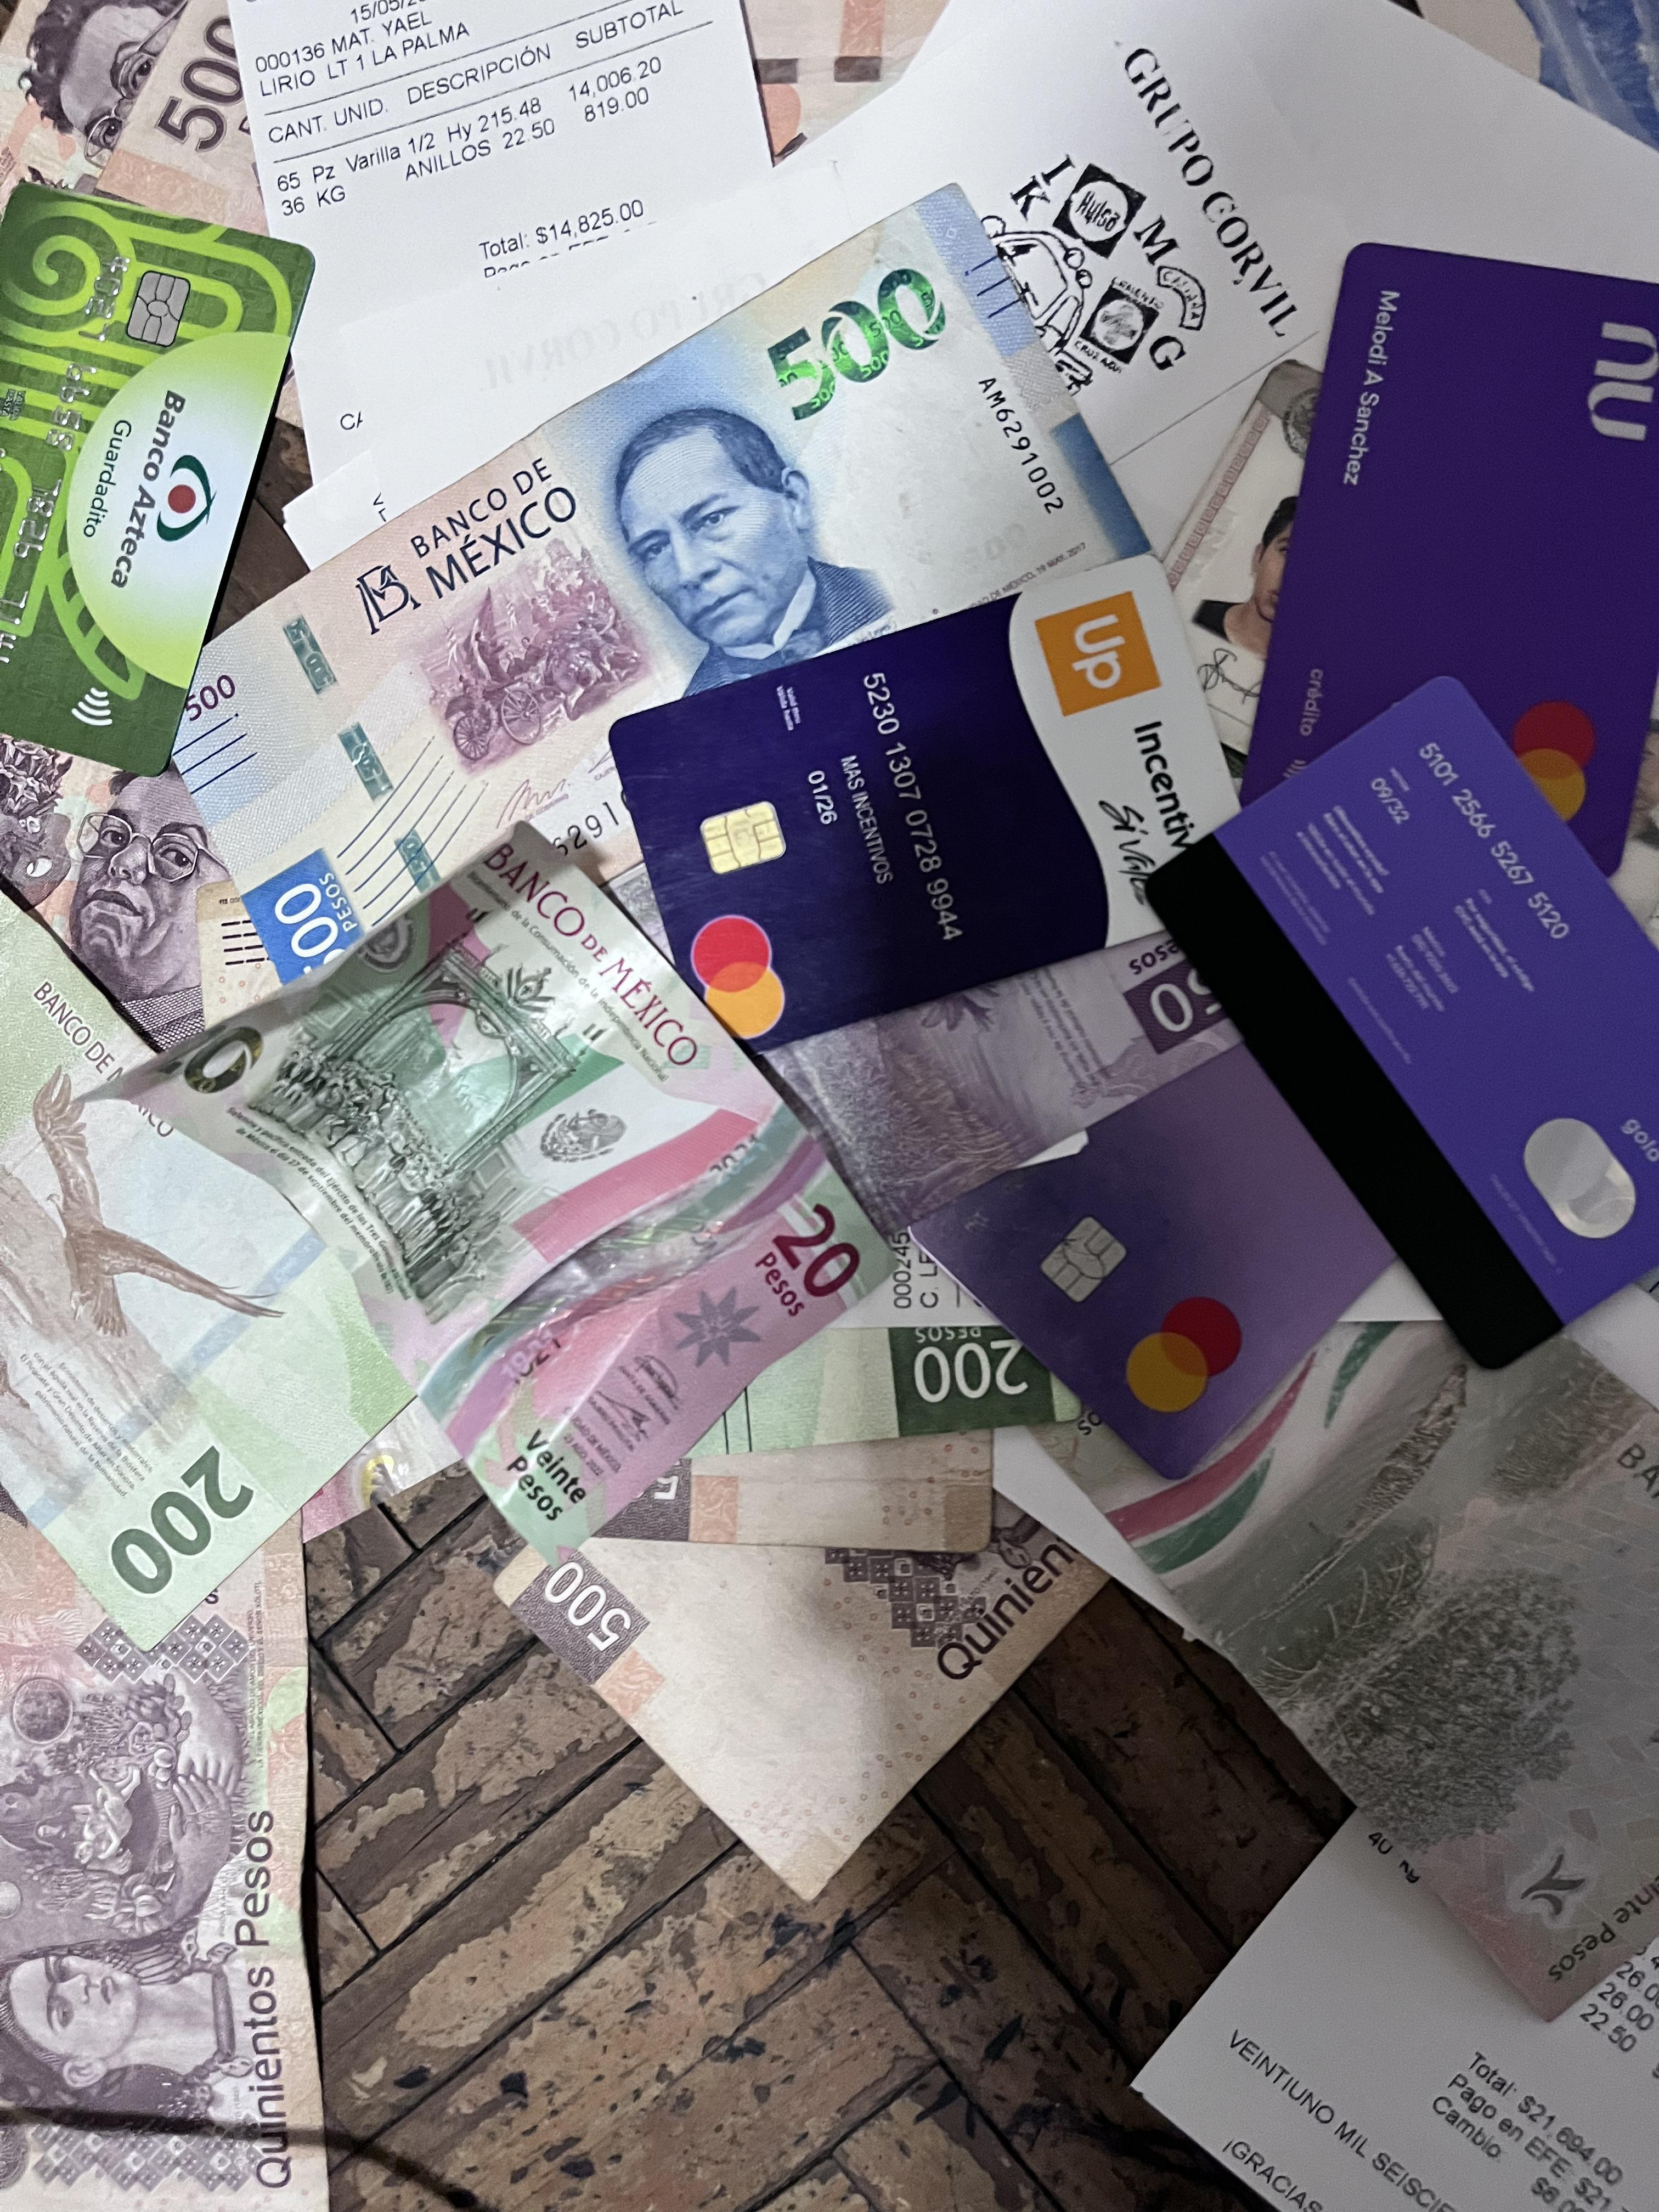20: (985, 1191, 1659, 2104), (125, 822, 897, 1580)
50: (688, 894, 1295, 1217)
500: (477, 1418, 1168, 1966), (0, 1550, 350, 2205), (0, 0, 345, 368), (0, 685, 263, 1050)
500 nuevo: (87, 209, 1190, 981)
